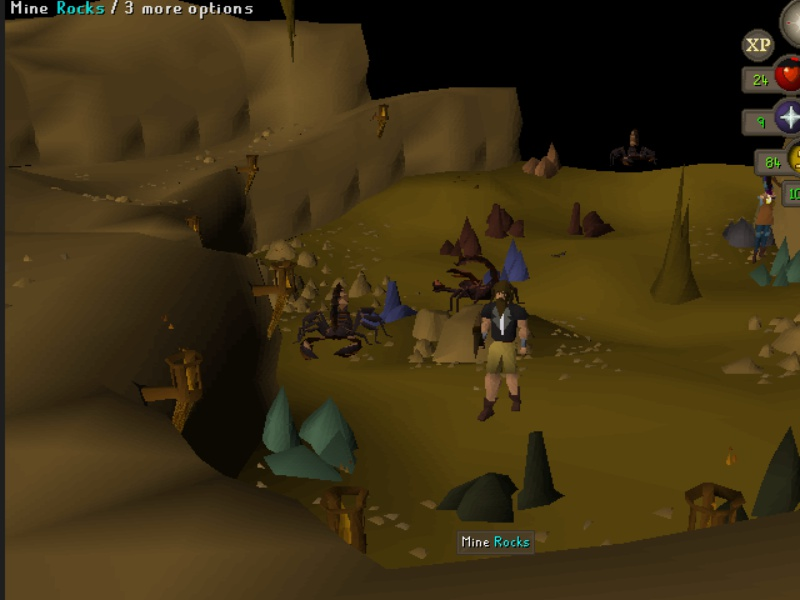adamant: (258, 382, 362, 486), (747, 231, 800, 290)
coal: (431, 425, 568, 527), (747, 419, 800, 525)
copper: (519, 142, 565, 182)
iron: (436, 211, 488, 259), (565, 195, 618, 241), (482, 199, 529, 242)
mithril: (357, 279, 419, 330), (478, 237, 532, 287)
